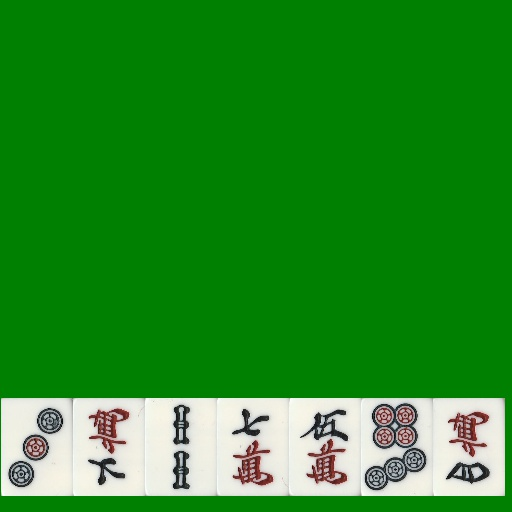2s: (145, 398, 217, 496)
3p: (1, 398, 73, 496)
4m: (433, 398, 505, 496)
5m: (289, 398, 361, 496)
7m: (73, 398, 145, 496), (217, 398, 289, 496)
7p: (361, 398, 433, 496)
